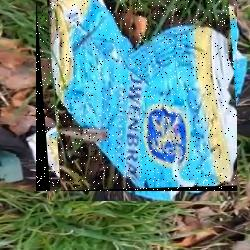metal: (36, 0, 237, 191)
